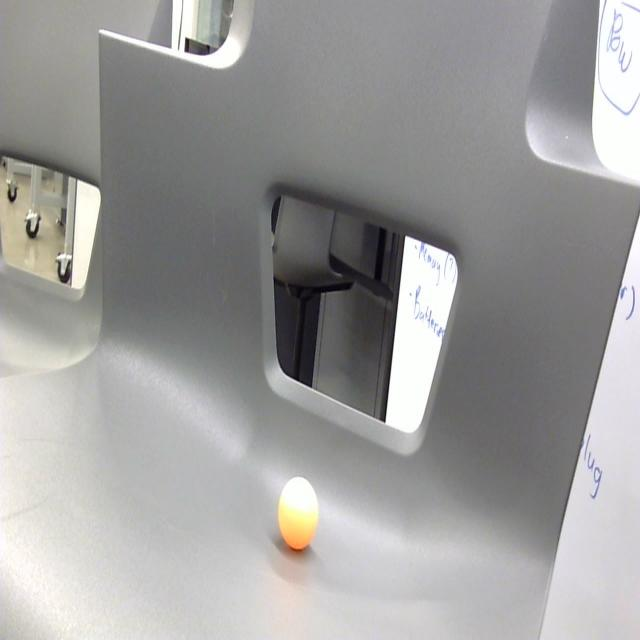ball: (276, 472, 322, 555)
